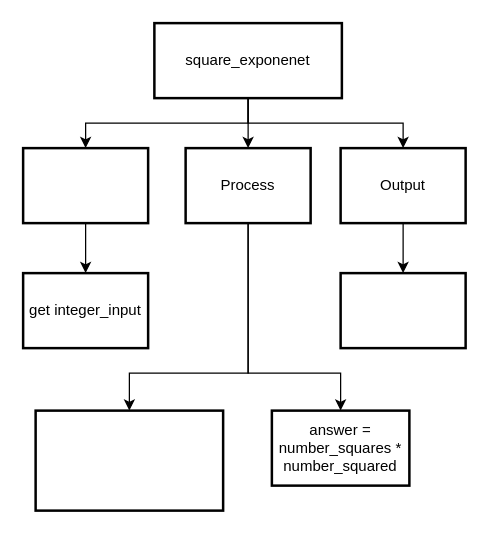
This 488x533 diagram has some shape labels left out. The shapes that lost their labels are listed below. From the top down, each one's centre as x and y in pixels, then its label:
the point at 85,185: Input
the point at 402,310: show number_squared² = answer
the point at 129,460: for number_squared = 0; number_squared < integer_input + 1; number_squared++;
